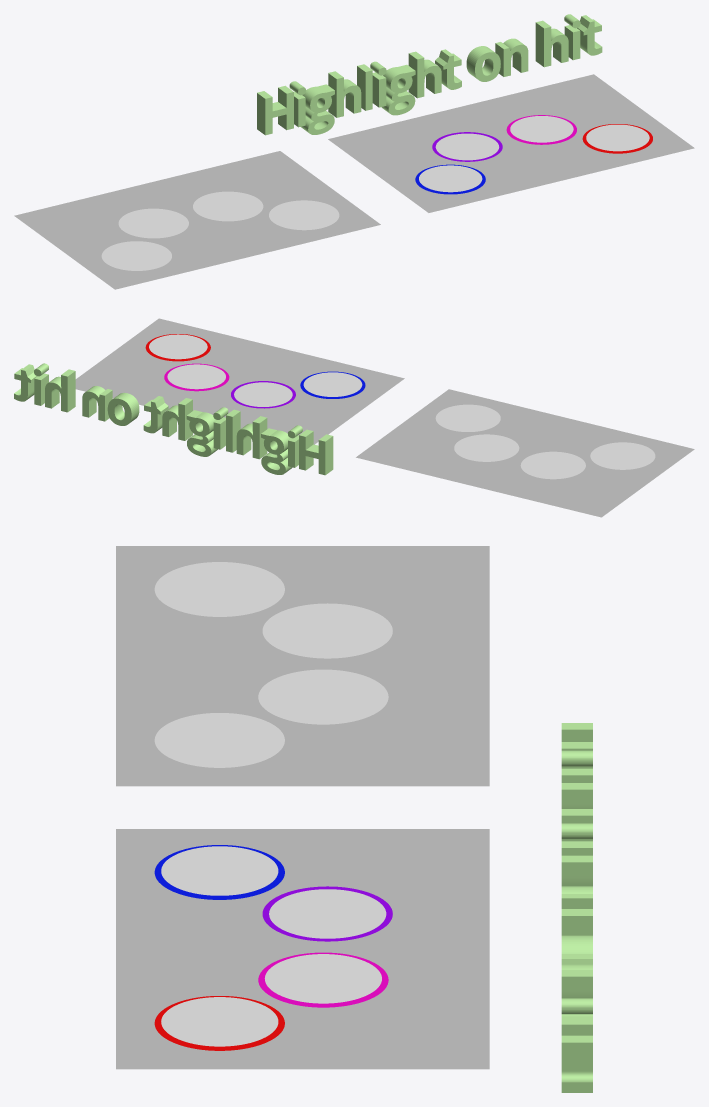
Rendered from Drum_pad_sketch_1.fbx.
The picture shows the model from 3 angles, top to bottom: view 1: azimuth 30°, elevation 25°; view 2: azimuth 150°, elevation 25°; view 3: azimuth 270°, elevation 25°; orthographic projection. The views are drawn at different scales.
Parts seen in each view (by area): view 1: Plane 9, Plane, 3D Text - h (×3), 3D Text - g (×2), 3D Text - i (×3), Plane 2, Plane 1, Plane 3, Plane 4, 3D Text - t (×2), Plane 11, 3D Text - H (+6 smaller); view 2: Plane, Plane 9, 3D Text - h (×3), 3D Text - g (×2), 3D Text - i (×3), Plane 3, Plane 1, Plane 2, Plane 4, 3D Text - H, 3D Text - t (×2), Plane 13 (+10 smaller); view 3: Plane, Plane 9, Plane 2, Plane 1, Plane 3, Plane 4, Plane 11, Plane 13, Plane 10, Plane 12, 3D Text - t (×2), 3D Text - h (×3) (+6 smaller).
Boxes of the visible parts, x1=… form: Plane 9: x1=328, y1=74, x2=694, y2=212; Plane: x1=14, y1=151, x2=380, y2=289; 3D Text - h (×3): x1=328, y1=20, x2=568, y2=117; 3D Text - g (×2): x1=301, y1=64, x2=415, y2=134; 3D Text - i (×3): x1=289, y1=14, x2=580, y2=127; Plane 2: x1=118, y1=208, x2=188, y2=238; Plane 1: x1=193, y1=191, x2=263, y2=221; Plane 3: x1=101, y1=241, x2=171, y2=270; Plane 4: x1=269, y1=200, x2=339, y2=230; 3D Text - t (×2): x1=435, y1=15, x2=602, y2=89; Plane 11: x1=435, y1=133, x2=499, y2=160; 3D Text - H: x1=257, y1=85, x2=293, y2=135; Plane: x1=356, y1=389, x2=694, y2=517; Plane 9: x1=75, y1=318, x2=404, y2=444; 3D Text - h (×3): x1=45, y1=369, x2=267, y2=459; 3D Text - g (×2): x1=186, y1=410, x2=292, y2=474; 3D Text - i (×3): x1=34, y1=363, x2=302, y2=467; Plane 3: x1=590, y1=442, x2=655, y2=469; Plane 1: x1=454, y1=434, x2=519, y2=461; Plane 2: x1=520, y1=451, x2=585, y2=479; Plane 4: x1=435, y1=404, x2=500, y2=431; 3D Text - H: x1=299, y1=429, x2=333, y2=475; 3D Text - t (×2): x1=14, y1=364, x2=168, y2=433; Plane 13: x1=149, y1=334, x2=207, y2=359; Plane: x1=116, y1=546, x2=489, y2=786; Plane 9: x1=116, y1=829, x2=489, y2=1069; Plane 2: x1=262, y1=603, x2=392, y2=658; Plane 1: x1=258, y1=669, x2=388, y2=724; Plane 3: x1=154, y1=562, x2=284, y2=616; Plane 4: x1=154, y1=713, x2=284, y2=767; Plane 11: x1=269, y1=889, x2=386, y2=938; Plane 13: x1=161, y1=997, x2=278, y2=1046; Plane 10: x1=161, y1=846, x2=278, y2=895; Plane 12: x1=264, y1=954, x2=381, y2=1003; 3D Text - t (×2): x1=561, y1=894, x2=592, y2=1092; 3D Text - h (×3): x1=561, y1=783, x2=592, y2=1016.
Bounding box in the file's own units: 498 × 183 × 40.
